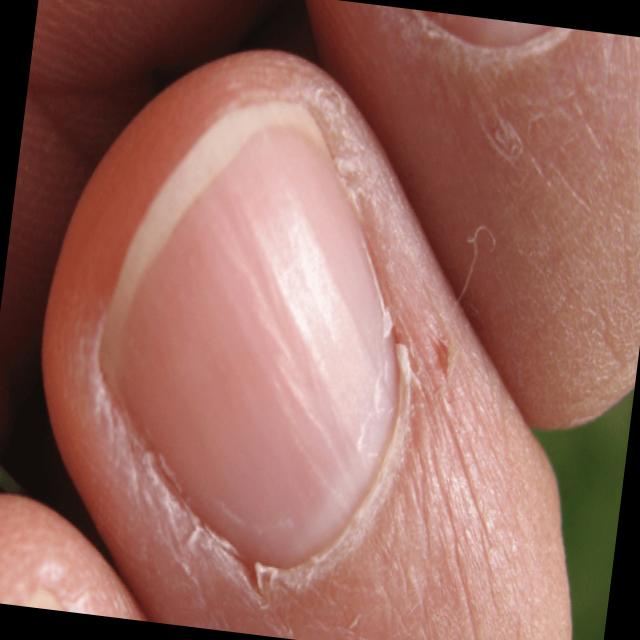Nail: (100, 101, 396, 567)
